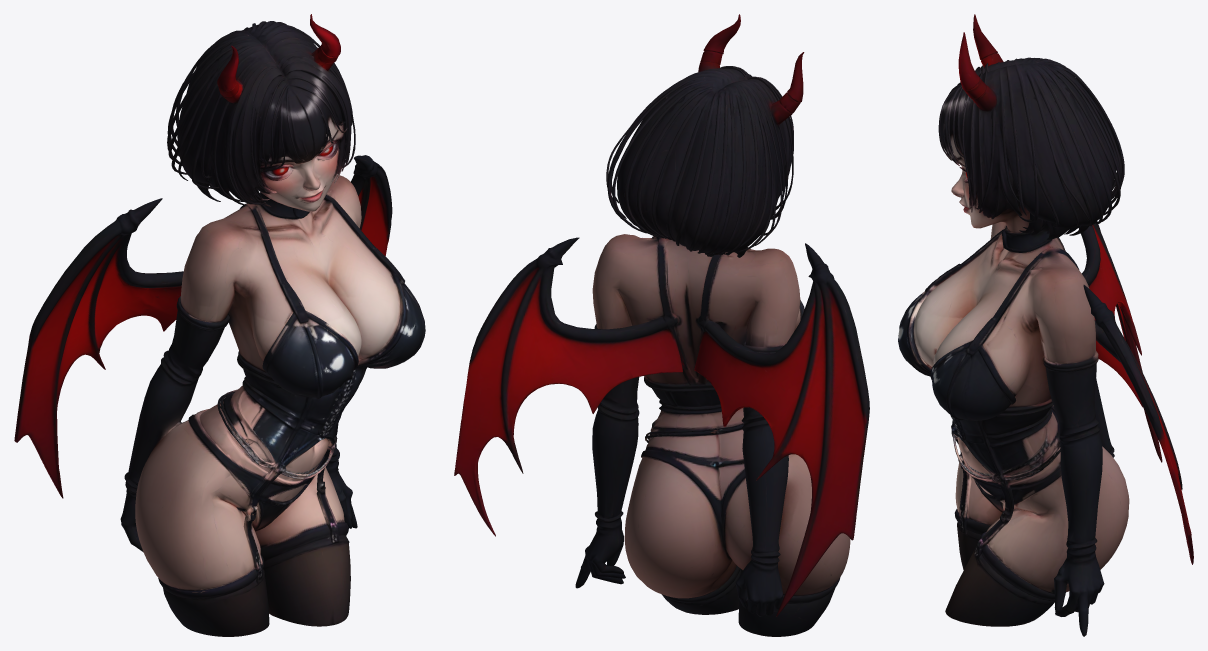
The model's file is 01a1a2e1-3508-7bef-8d07-44bc49d947c4.glb.
3 views of the same model, side by side, from view 1: azimuth 30°, elevation 25°; view 2: azimuth 150°, elevation 25°; view 3: azimuth 270°, elevation 25° (orthographic). The views are drawn at different scales.
Parts seen in each view (by area): view 1: node_0; view 2: node_0; view 3: node_0.
Part boxes in pixels (<box>): node_0: <box>14,14,425,636</box>; node_0: <box>454,14,869,636</box>; node_0: <box>898,14,1193,636</box>.
Size of the model in its own units: 0.767 by 1.14 by 0.5325.
Materials: 1 (1 with a texture image).
